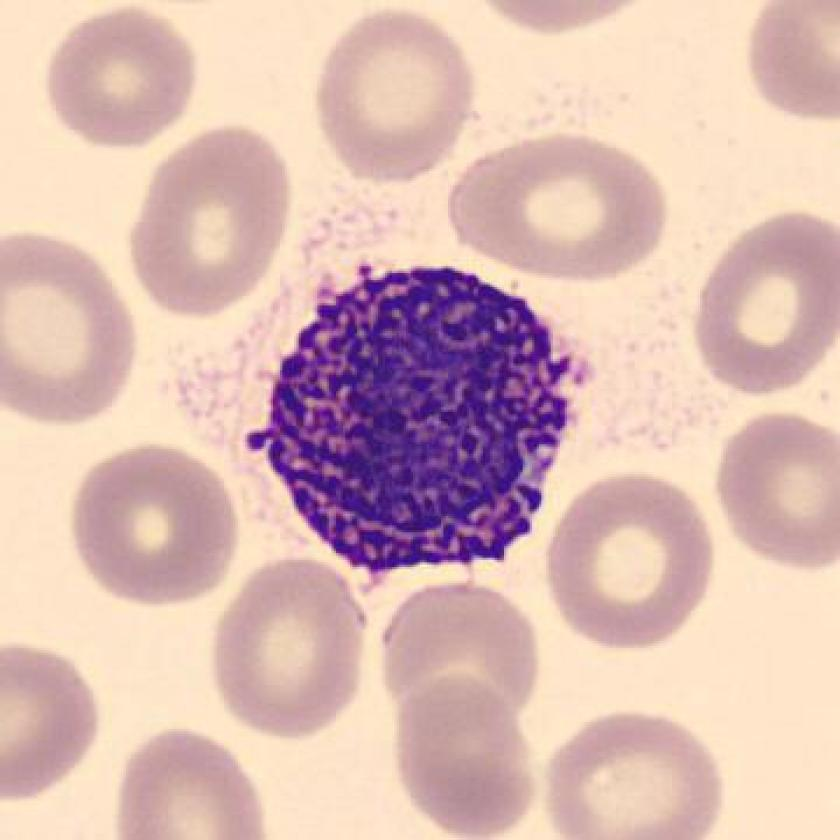basophil: (253, 267, 580, 577)
